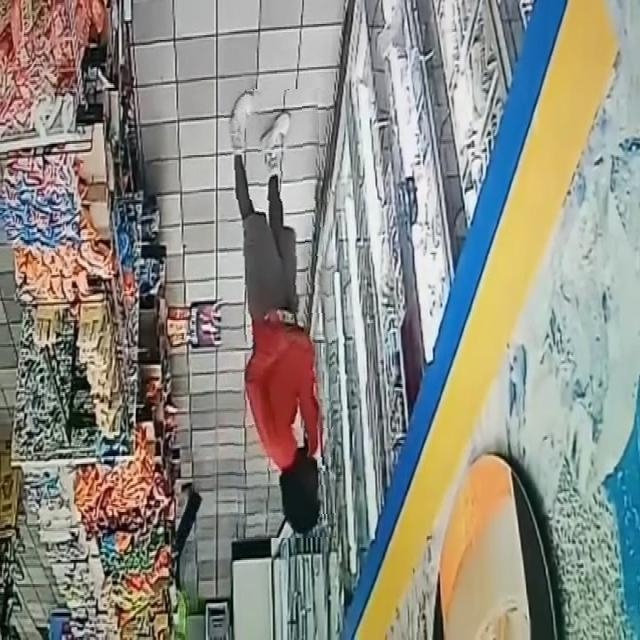Shoplifting: (227, 89, 333, 538)
